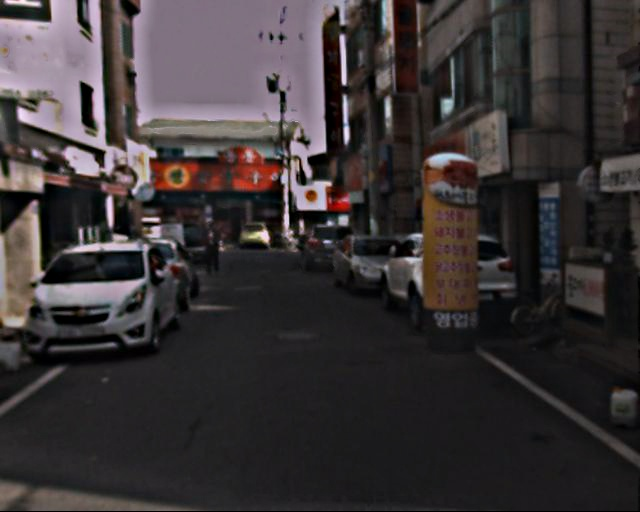person: (201, 221, 226, 276)
